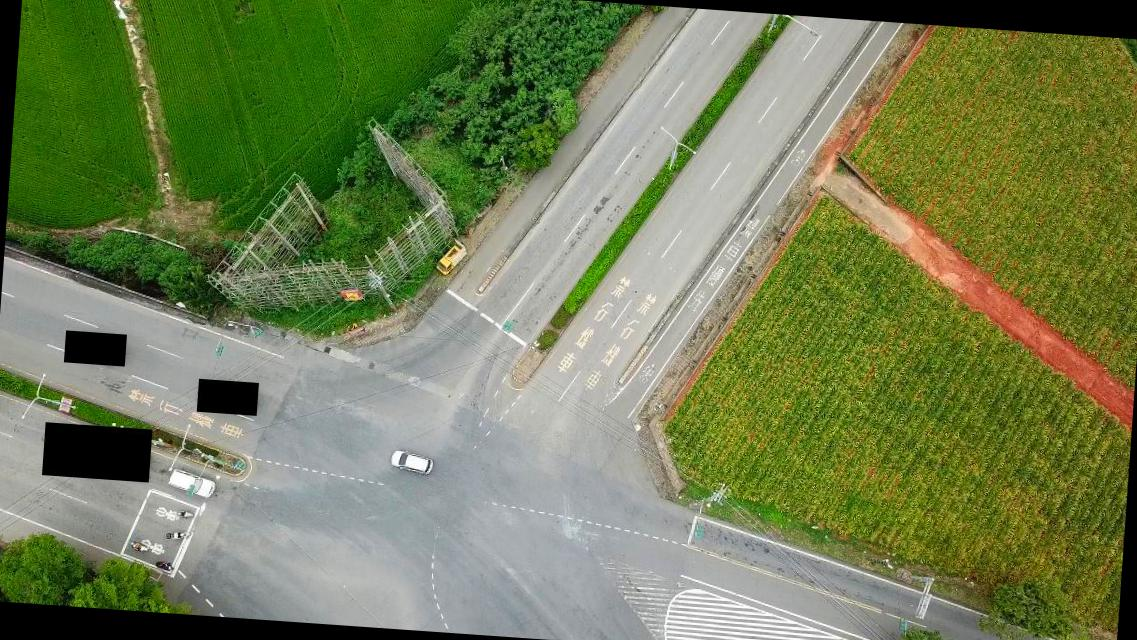vehicle: (166, 470, 217, 498), (386, 448, 434, 475), (435, 242, 461, 278)
